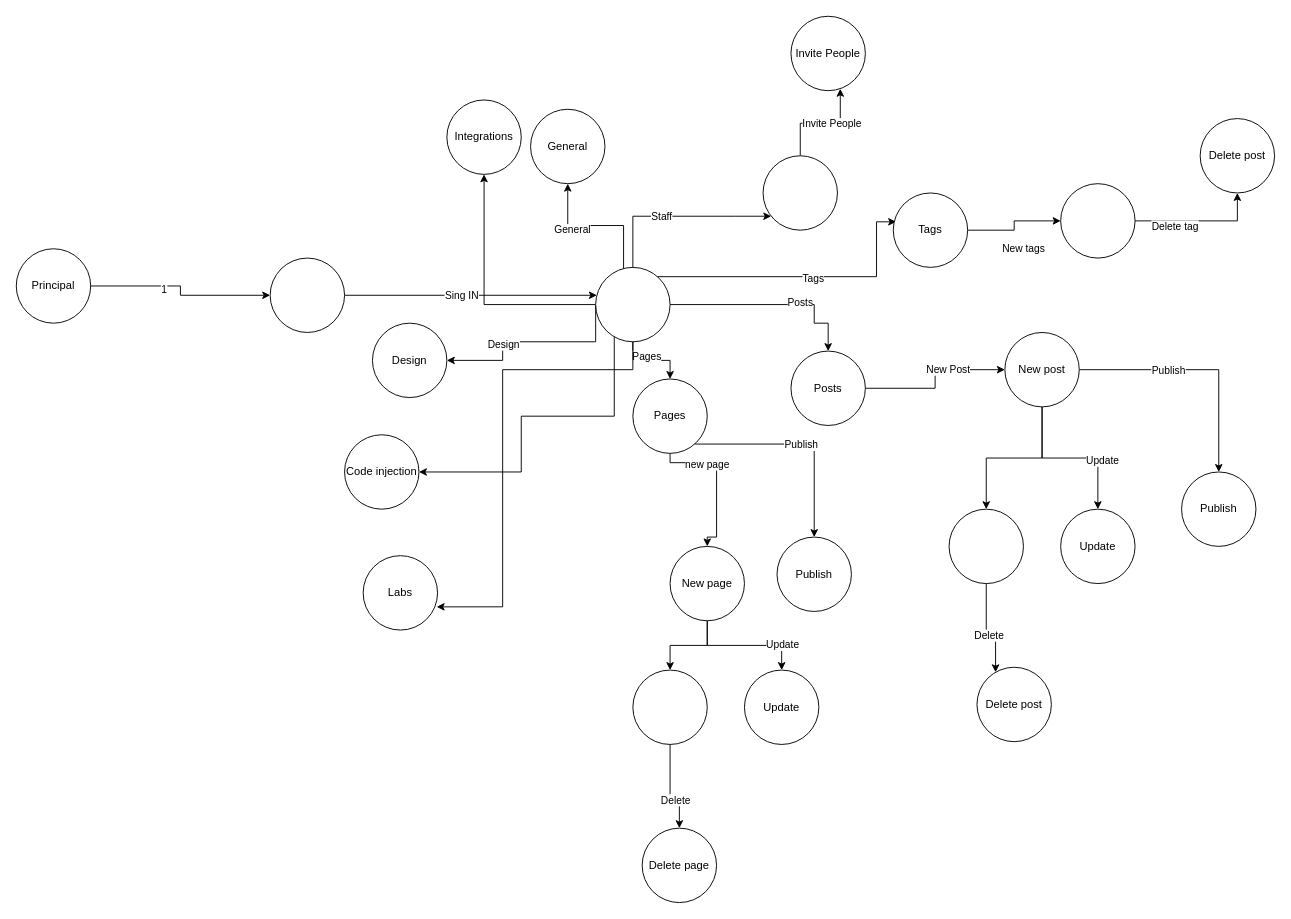
Image size: 1291x919. Some labels were removed from this diagram. The shapes that lost their labels are listed below. From the top down, each one's centre as x and y in pixels, then its label:
At (x=799, y=192): "Staff users".
At (x=1097, y=220): "New/Update tags".
At (x=307, y=294): "Login".
At (x=632, y=304): "View site".
At (x=985, y=546): "Post settings".
At (x=669, y=706): "Page settings".
